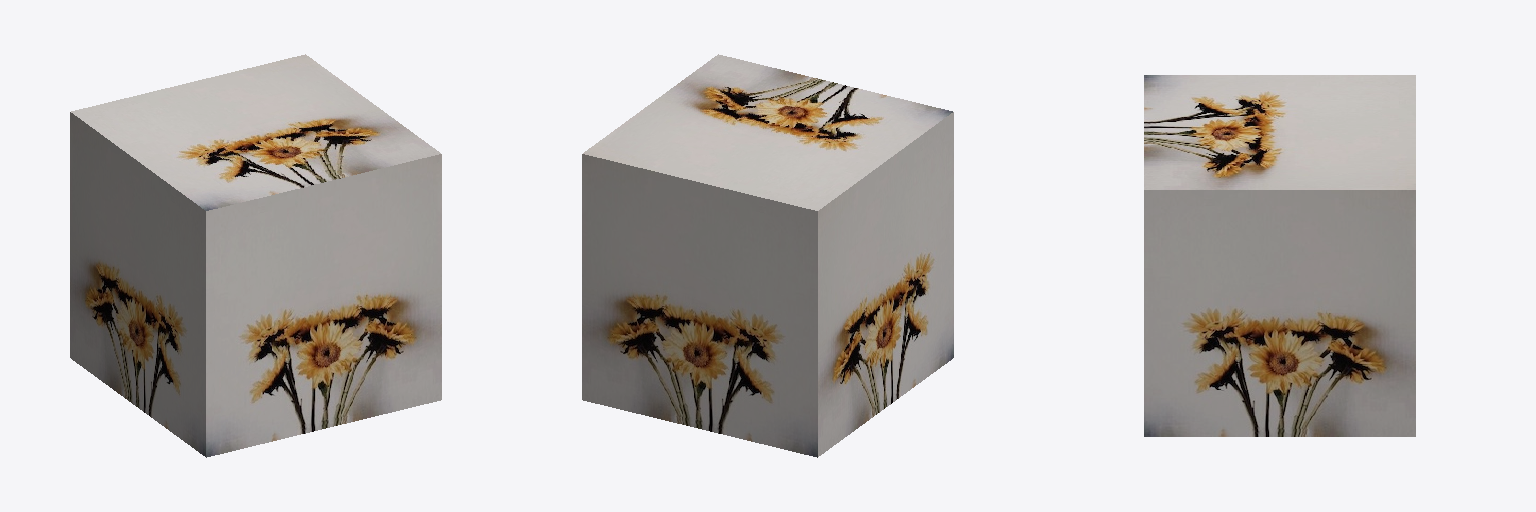
The picture shows the model from 3 angles: view 1: azimuth 30°, elevation 25°; view 2: azimuth 150°, elevation 25°; view 3: azimuth 270°, elevation 25°; orthographic projection.
Visible parts, largest first — view 1: Cube; view 2: Cube; view 3: Cube.
Part boxes in pixels (left/top/right/bottom): Cube: left=70, top=54, right=441, bottom=457; Cube: left=582, top=54, right=953, bottom=457; Cube: left=1144, top=75, right=1415, bottom=436.
Bounding box in the file's own units: 2 × 2 × 2.
Materials: 1 (1 with a texture image).